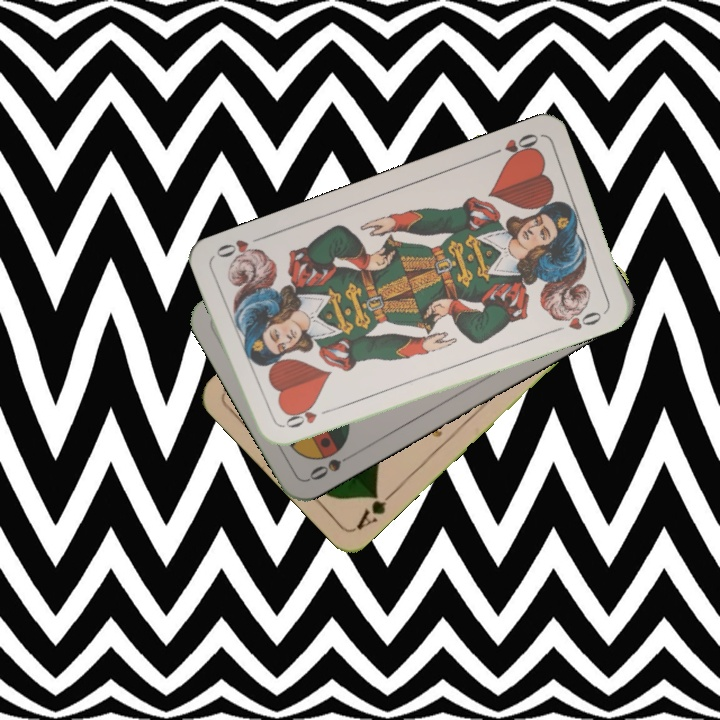GA: (352, 486, 399, 533)
HO: (485, 129, 541, 163), (275, 404, 332, 431)
SO: (305, 448, 359, 483)
